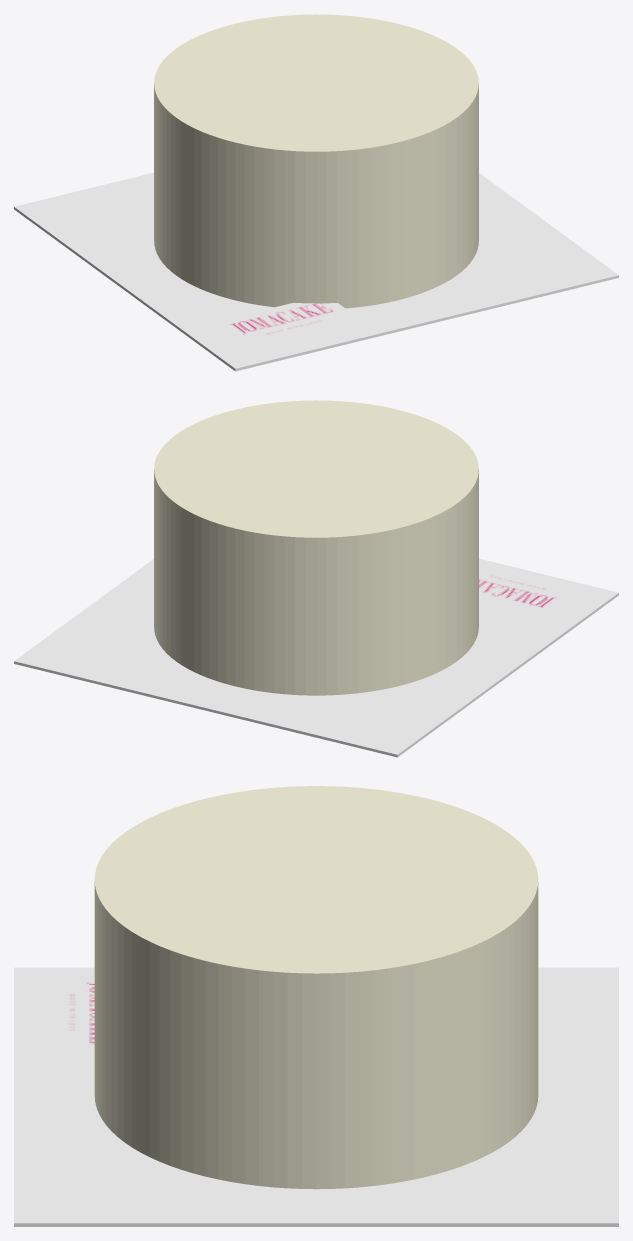
The model's file is cake_4in_layers2_v34.glb.
3 renders of one model, top to bottom at view 1: azimuth 30°, elevation 25°; view 2: azimuth 150°, elevation 25°; view 3: azimuth 270°, elevation 25°, orthographic. The views are drawn at different scales.
Visible parts, largest first — view 1: Cake, Board, Logo; view 2: Cake, Board, Logo; view 3: Cake, Board, Logo.
Boxes of the visible parts, bbox=[...] form: Cake: bbox=[154, 14, 478, 308]; Board: bbox=[14, 172, 618, 371]; Logo: bbox=[212, 302, 359, 347]; Cake: bbox=[154, 400, 478, 695]; Board: bbox=[14, 558, 618, 757]; Logo: bbox=[479, 565, 582, 614]; Cake: bbox=[94, 786, 538, 1189]; Board: bbox=[14, 967, 618, 1226]; Logo: bbox=[50, 974, 94, 1051].
Bounding box in the file's own units: 0.15 × 0.06 × 0.15.
